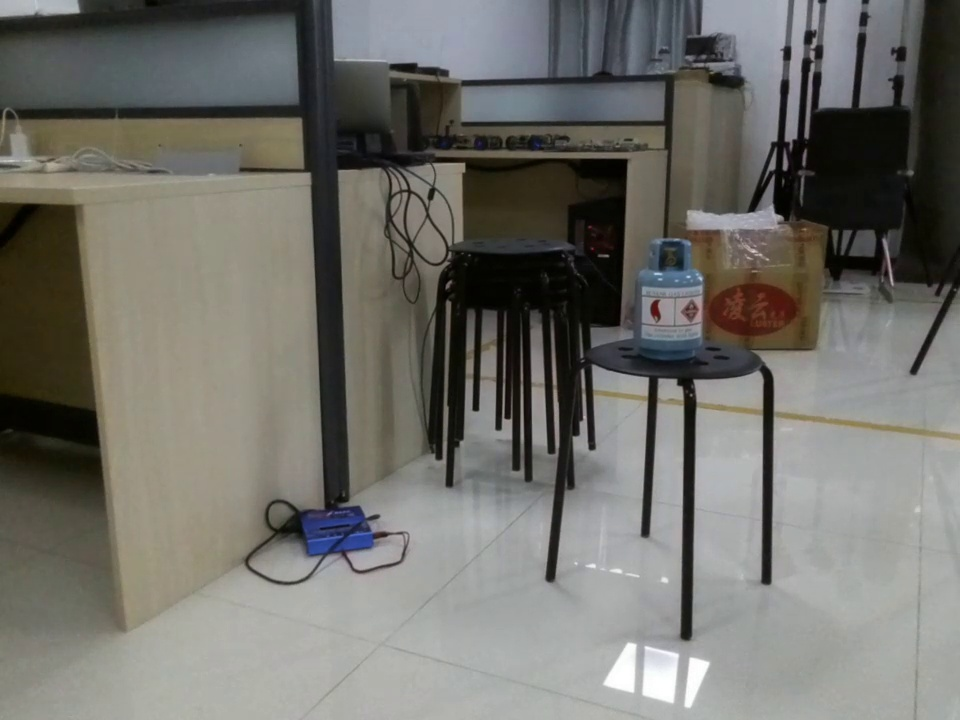gas tank: (624, 233, 717, 365)
